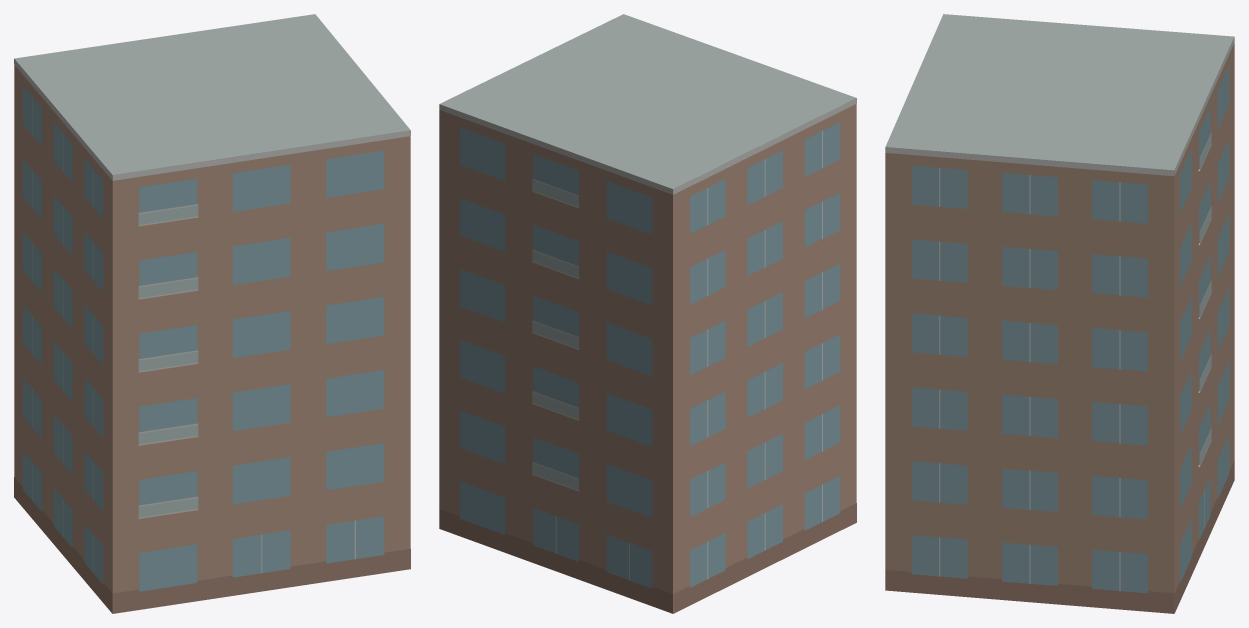
File: survey-upis-32753841.glb
3 renders of one model, left to right at view 1: azimuth 30°, elevation 25°; view 2: azimuth 150°, elevation 25°; view 3: azimuth 270°, elevation 25°, orthographic. The views are drawn at different scales.
Parts seen in each view (by area): view 1: survey-upis-32753841.tmp; view 2: survey-upis-32753841.tmp; view 3: survey-upis-32753841.tmp.
Part boxes in pixels (bbox=[...]): survey-upis-32753841.tmp: bbox=[14, 14, 410, 613]; survey-upis-32753841.tmp: bbox=[439, 14, 856, 613]; survey-upis-32753841.tmp: bbox=[885, 14, 1234, 613].
Bounding box in the file's own units: 13.85 × 18.3 × 13.07.
